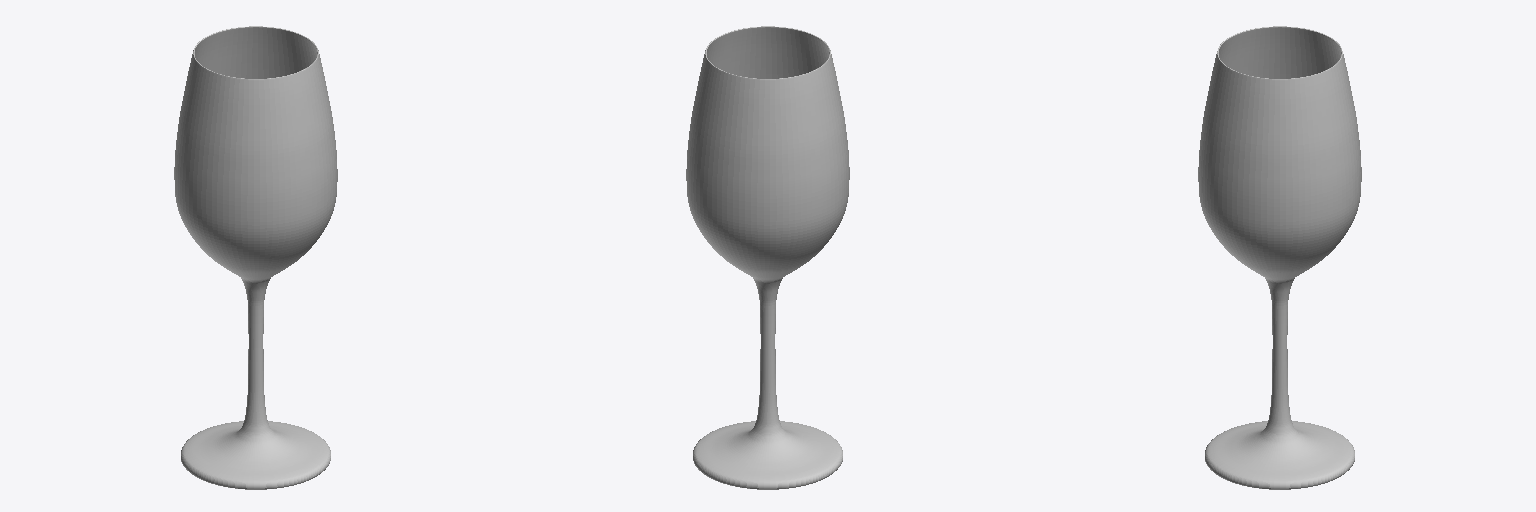
File: wineGlass.obj
3 renders of one model, left to right at view 1: azimuth 30°, elevation 25°; view 2: azimuth 150°, elevation 25°; view 3: azimuth 270°, elevation 25°, orthographic.
Parts seen in each view (by area): view 1: glass.0_Plane.004; view 2: glass.0_Plane.004; view 3: glass.0_Plane.004.
Part boxes in pixels (bbox=[...]): glass.0_Plane.004: bbox=[174, 26, 337, 489]; glass.0_Plane.004: bbox=[686, 26, 849, 489]; glass.0_Plane.004: bbox=[1198, 26, 1361, 489].
Size of the model in its own units: 2.5 by 6.86 by 2.5.